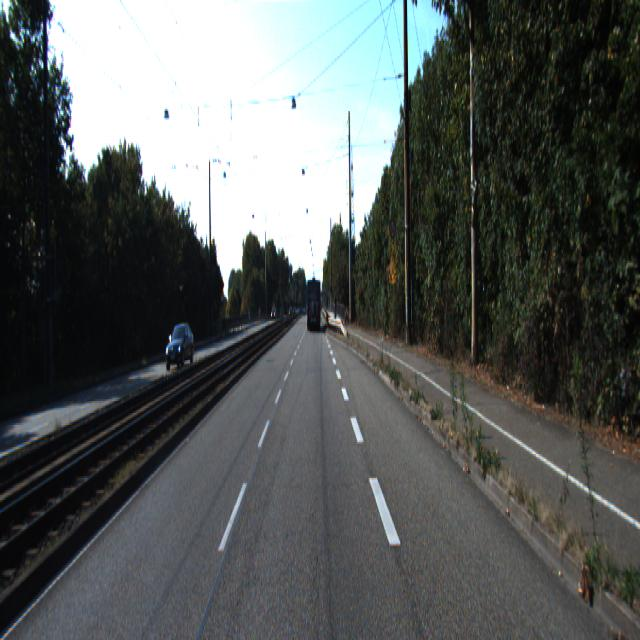Car: (165, 324, 195, 372), (306, 278, 322, 331)
